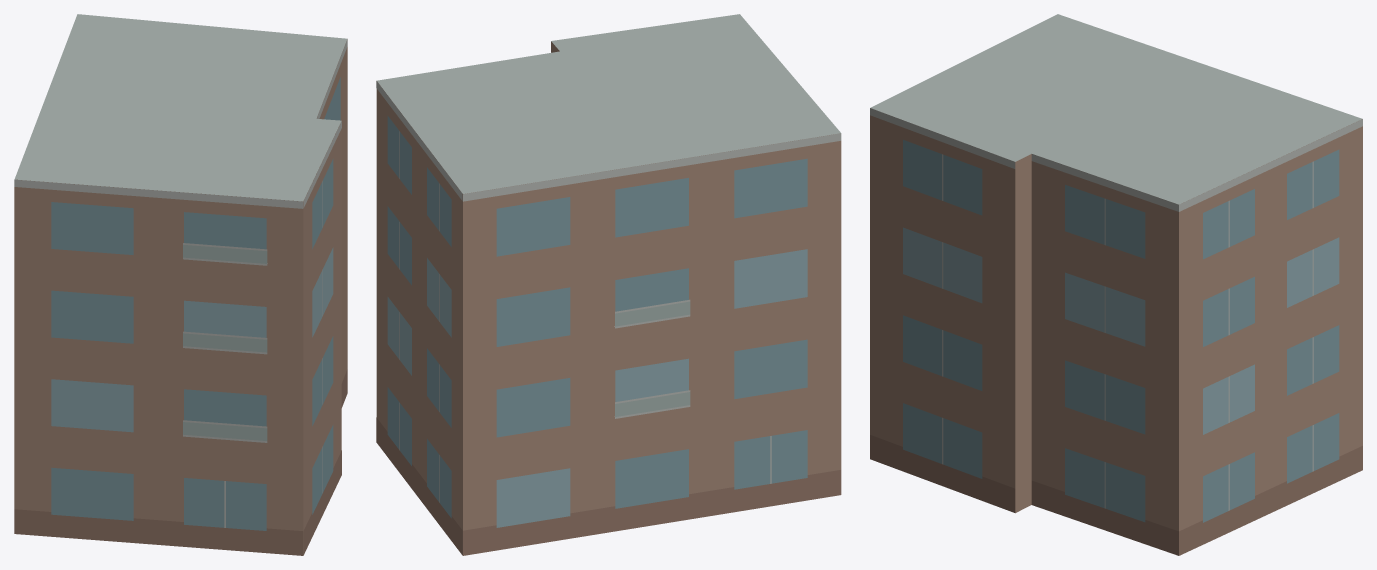
The model's file is survey-upis-33000488.glb.
3 views of the same model, side by side, from view 1: azimuth 30°, elevation 25°; view 2: azimuth 150°, elevation 25°; view 3: azimuth 270°, elevation 25° (orthographic). The views are drawn at different scales.
Visible parts, largest first — view 1: survey-upis-33000488.tmp; view 2: survey-upis-33000488.tmp; view 3: survey-upis-33000488.tmp.
Boxes of the visible parts, <box> form: survey-upis-33000488.tmp: <box>14,14,347,555</box>; survey-upis-33000488.tmp: <box>376,14,841,555</box>; survey-upis-33000488.tmp: <box>870,14,1362,555</box>.
Bounding box in the file's own units: 13.63 × 11.7 × 14.88.
